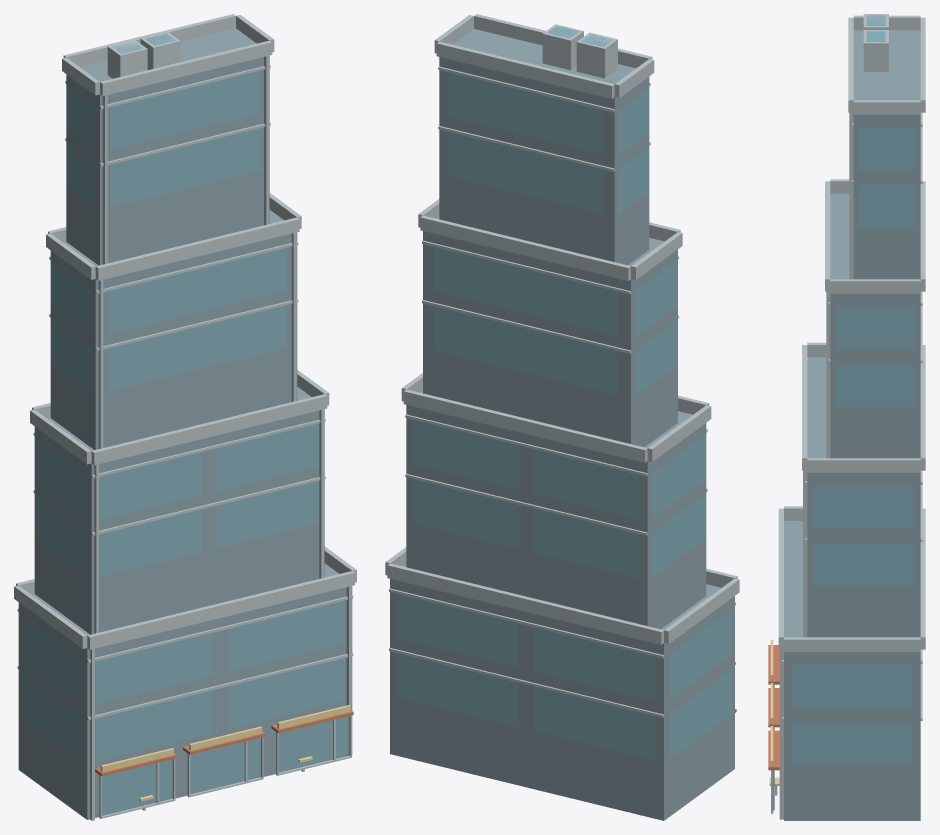
File: commercial_2x1_terraces.glb
3 views of the same model, side by side, from view 1: azimuth 30°, elevation 25°; view 2: azimuth 150°, elevation 25°; view 3: azimuth 270°, elevation 25° (orthographic). The views are drawn at different scales.
Visible parts, largest first — view 1: commercial_2x1_terraces_0; view 2: commercial_2x1_terraces_0; view 3: commercial_2x1_terraces_0.
Part boxes in pixels (<box>): commercial_2x1_terraces_0: <box>14,14,356,820</box>; commercial_2x1_terraces_0: <box>385,14,739,820</box>; commercial_2x1_terraces_0: <box>768,14,925,820</box>.
Size of the model in its own units: 15 by 37.5 by 7.5.
